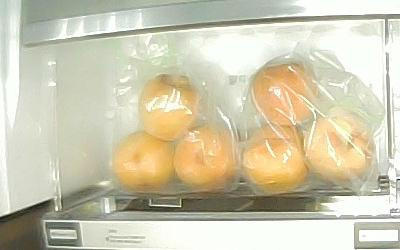peach_vinyl: (305, 112, 375, 184), (241, 124, 308, 192), (140, 72, 201, 143), (112, 131, 174, 195), (252, 64, 313, 126), (173, 128, 233, 189)
